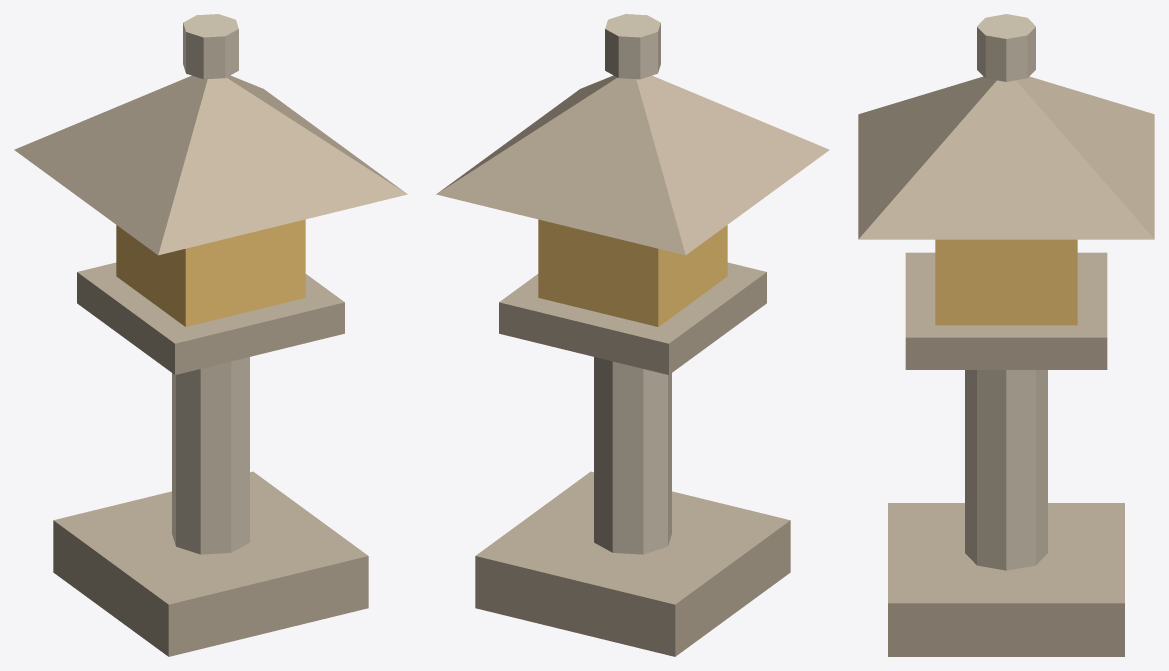
File: stone-lantern.glb
3 renders of one model, left to right at view 1: azimuth 30°, elevation 25°; view 2: azimuth 150°, elevation 25°; view 3: azimuth 270°, elevation 25°, orthographic. The views are drawn at different scales.
Parts seen in each view (by area): view 1: toro; view 2: toro; view 3: toro.
Part boxes in pixels (x1,y1,x2,y2): toro: (14,14,407,656); toro: (436,14,829,656); toro: (858,14,1154,656).
Bounding box in the file's own units: 0.5 × 1.08 × 0.5.
